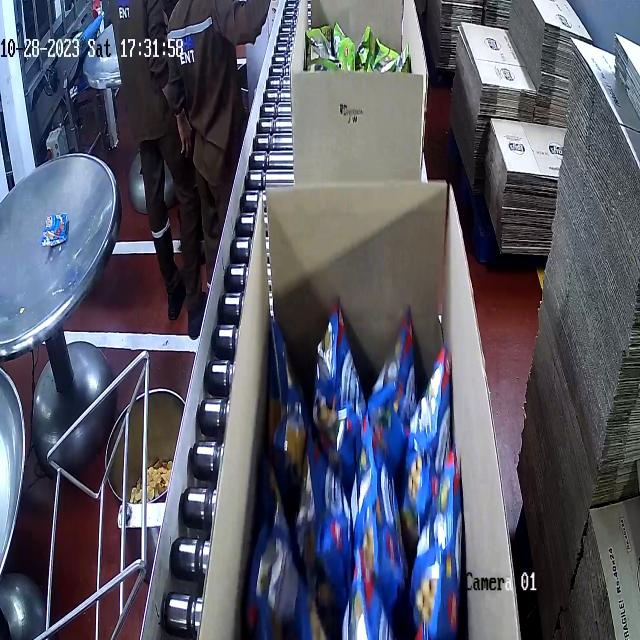PAPRIKA: (261, 283, 474, 640)
